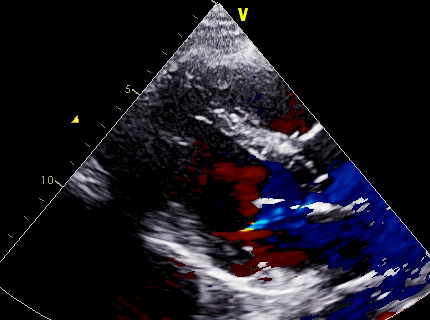AR: (203, 156, 299, 222)
